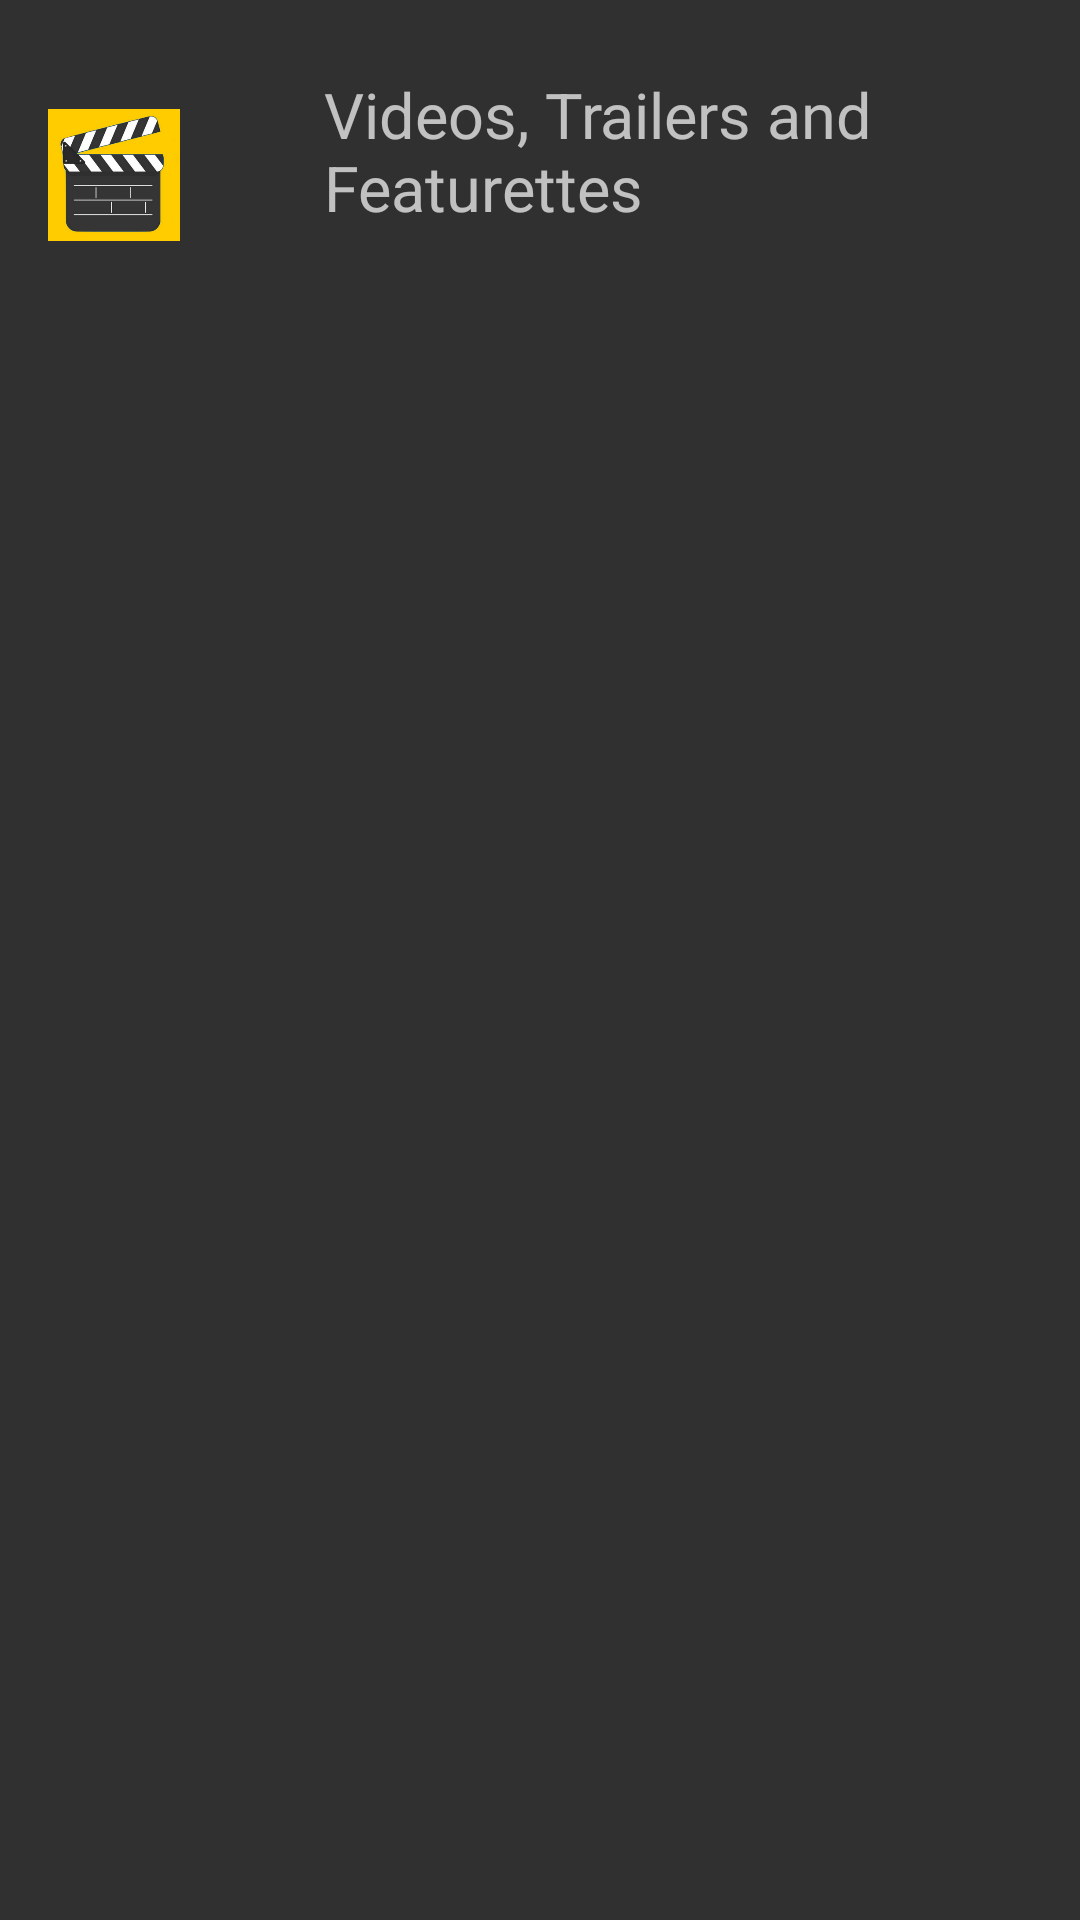

Locate icon controls on the screen. Image size 1080 x 1920, boxes as [left=x1, top=y1, right=x2, bottom=y2].
ciak: [left=48, top=109, right=180, bottom=241]
